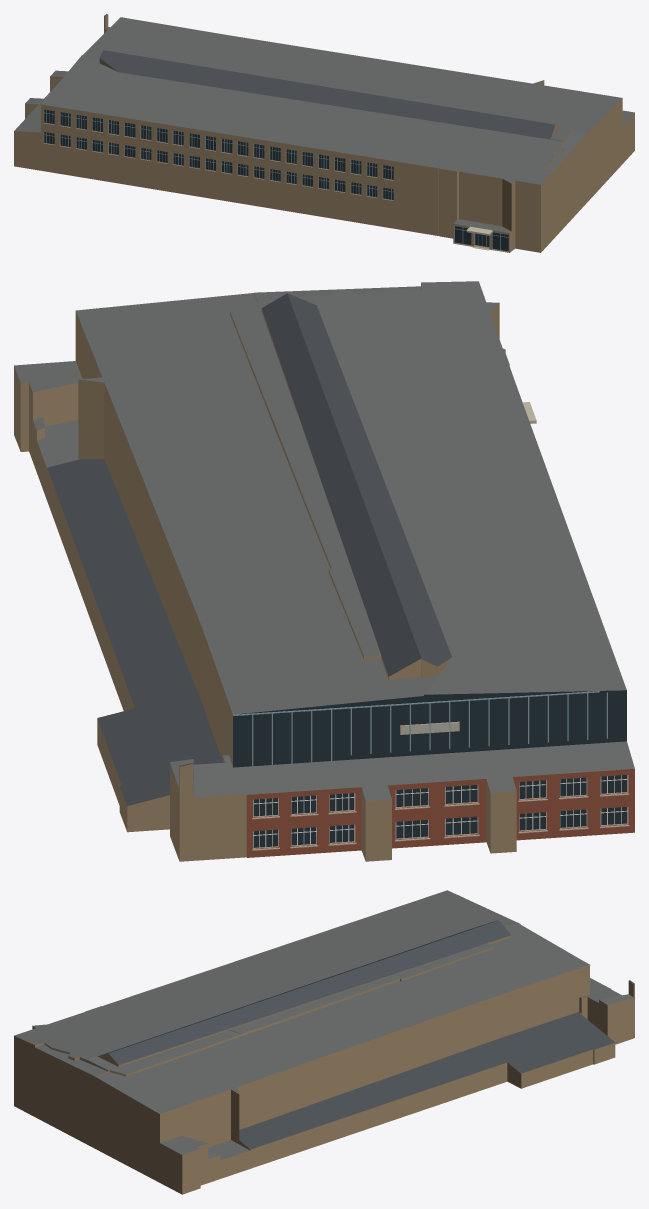
The model's file is recipe-large-apollolaan-4-134507.glb.
The picture shows the model from 3 angles, top to bottom: view 1: azimuth 30°, elevation 25°; view 2: azimuth 150°, elevation 25°; view 3: azimuth 270°, elevation 25°; orthographic projection. The views are drawn at different scales.
Parts seen in each view (by area): view 1: apollolaan-4-134507; view 2: apollolaan-4-134507; view 3: apollolaan-4-134507.
Part boxes in pixels (left/top/right/bottom): apollolaan-4-134507: left=14, top=14, right=634, bottom=252; apollolaan-4-134507: left=14, top=281, right=634, bottom=861; apollolaan-4-134507: left=14, top=890, right=634, bottom=1194.
Size of the model in its own units: 90.4 by 14.47 by 97.4.
